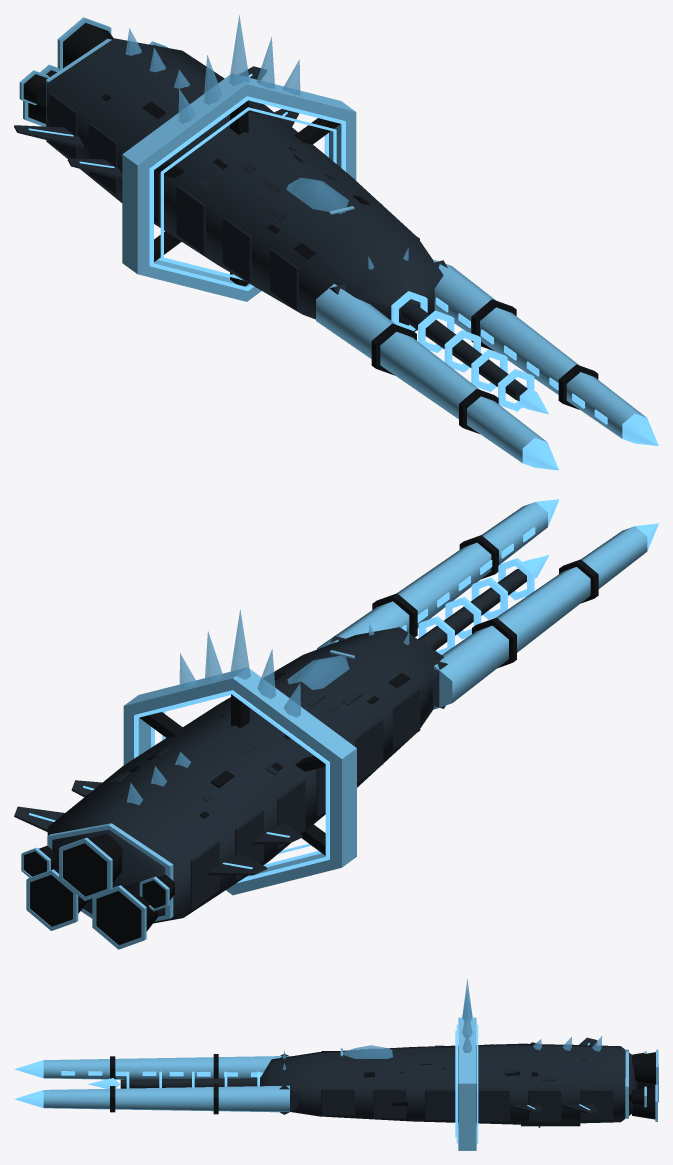
Rendered from kamerton-rezonanci-hawk-5-lod0.glb.
3 renders of one model, top to bottom at view 1: azimuth 30°, elevation 25°; view 2: azimuth 150°, elevation 25°; view 3: azimuth 270°, elevation 25°, orthographic. The views are drawn at different scales.
Bounding box in the file's own units: 8.59 × 9.24 × 31.24.
